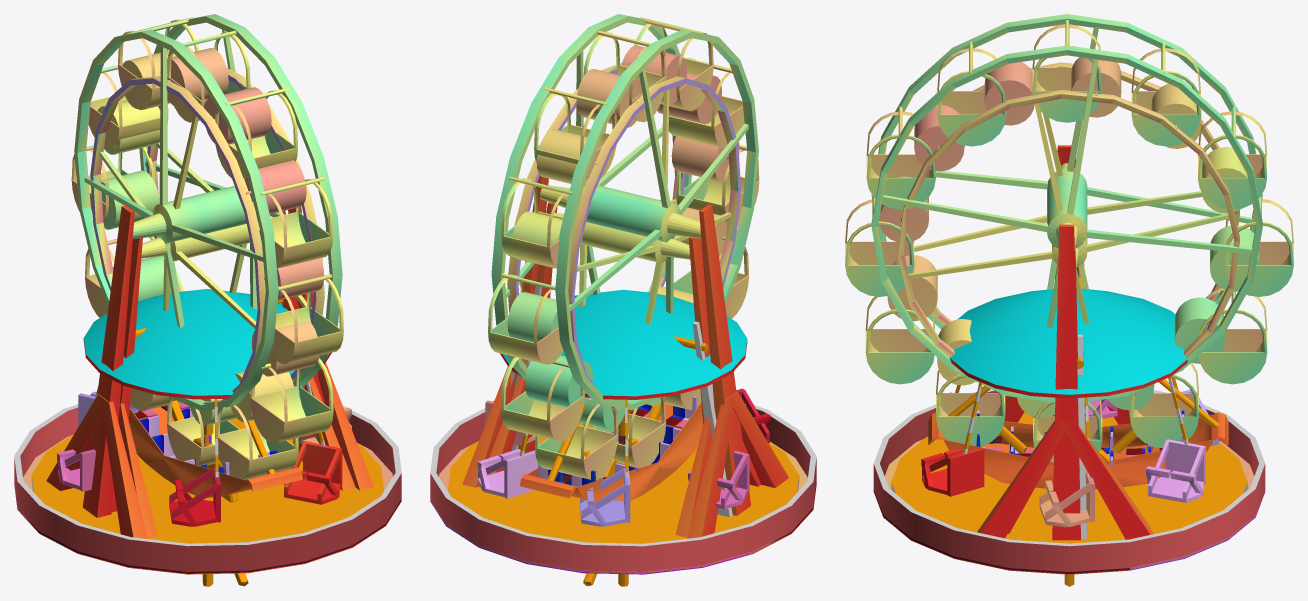
The model's file is prop03.fbx.
The picture shows the model from 3 angles, left to right: view 1: azimuth 30°, elevation 25°; view 2: azimuth 150°, elevation 25°; view 3: azimuth 270°, elevation 25°; orthographic projection.
Visible parts, largest first — view 1: jula_04, pCylinder45jula_03_2, park_propjula, park_propjula2, park_propjula1, pCylinder2, pCylinder45jula_03_1, sun; view 2: jula_04, pCylinder45jula_03_2, park_propjula, park_propjula2, park_propjula1, pCylinder2, pCylinder45jula_03_1, sun; view 3: jula_04, park_propjula, pCylinder45jula_03_2, park_propjula2, park_propjula1, pCylinder2, pCylinder45jula_03_1, sun.
Part boxes in pixels (x1,y1,x2,y2): jula_04: [46, 14, 373, 538]; pCylinder45jula_03_2: [90, 48, 324, 425]; park_propjula: [31, 289, 383, 543]; park_propjula2: [14, 299, 401, 574]; park_propjula1: [57, 381, 351, 526]; pCylinder2: [128, 402, 302, 497]; pCylinder45jula_03_1: [111, 210, 355, 538]; sun: [172, 400, 248, 586]; jula_04: [462, 14, 788, 538]; pCylinder45jula_03_2: [507, 45, 740, 430]; park_propjula: [448, 289, 799, 543]; park_propjula2: [430, 285, 816, 574]; park_propjula1: [477, 371, 770, 526]; pCylinder2: [519, 396, 703, 502]; pCylinder45jula_03_1: [478, 202, 760, 537]; sun: [583, 403, 660, 586]; jula_04: [845, 14, 1293, 540]; park_propjula: [891, 288, 1247, 543]; pCylinder45jula_03_2: [879, 57, 1259, 418]; park_propjula2: [873, 262, 1265, 574]; park_propjula1: [921, 377, 1218, 527]; pCylinder2: [928, 379, 1228, 488]; pCylinder45jula_03_1: [1004, 249, 1150, 533]; sun: [999, 426, 1137, 586].
Bounding box in the file's own units: 789 × 1233 × 904.
